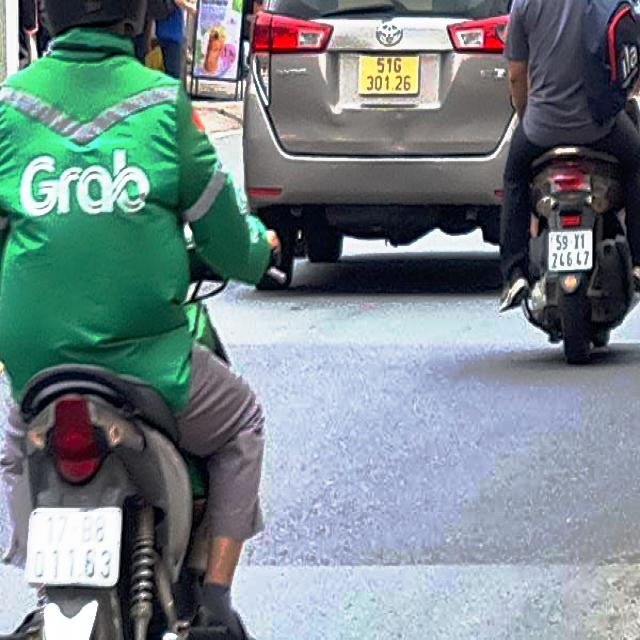license_plate: (26, 509, 123, 586), (360, 48, 421, 93), (548, 231, 596, 273)
